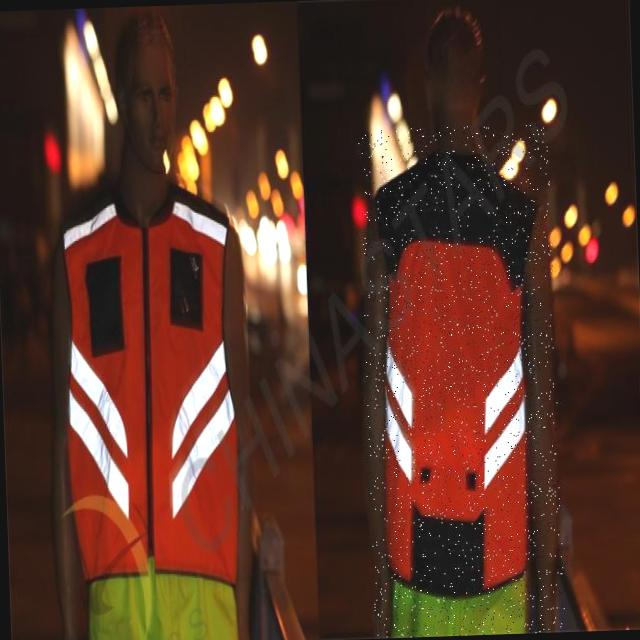vest: (358, 123, 566, 638), (80, 159, 271, 640)
